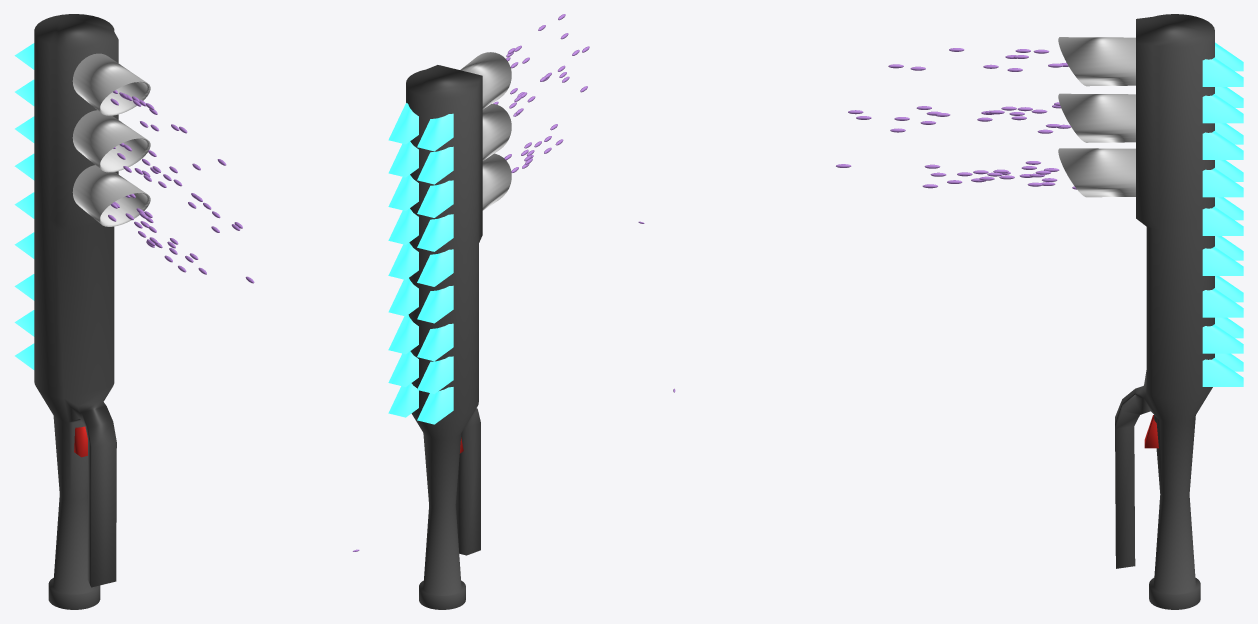
The model's file is マスブレード.fbx.
3 renders of one model, left to right at view 1: azimuth 30°, elevation 25°; view 2: azimuth 150°, elevation 25°; view 3: azimuth 270°, elevation 25°, orthographic. The views are drawn at different scales.
Visible parts, largest first — view 1: 円柱; view 2: 円柱; view 3: 円柱.
Part boxes in pixels (x1,y1,x2,y2): 円柱: (14,14,150,609); 円柱: (388,52,511,609); 円柱: (1058,14,1243,609).
Bounding box in the file's own units: 200 × 1561 × 1421.
